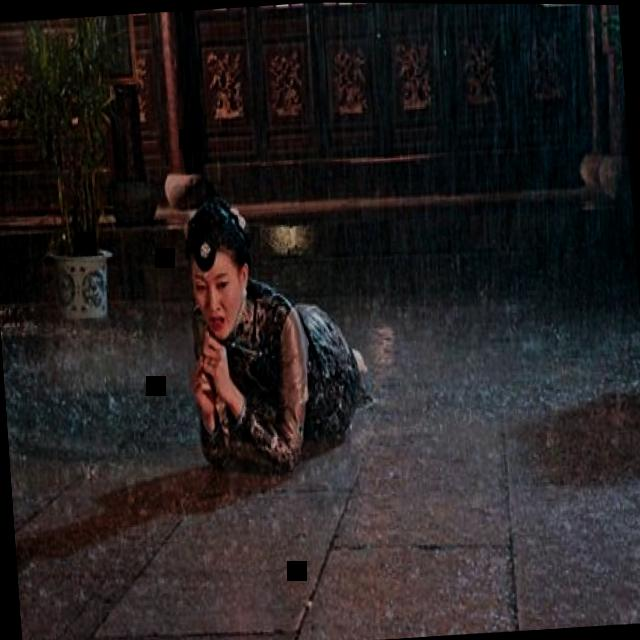Fall-Detected: (160, 168, 390, 496)
